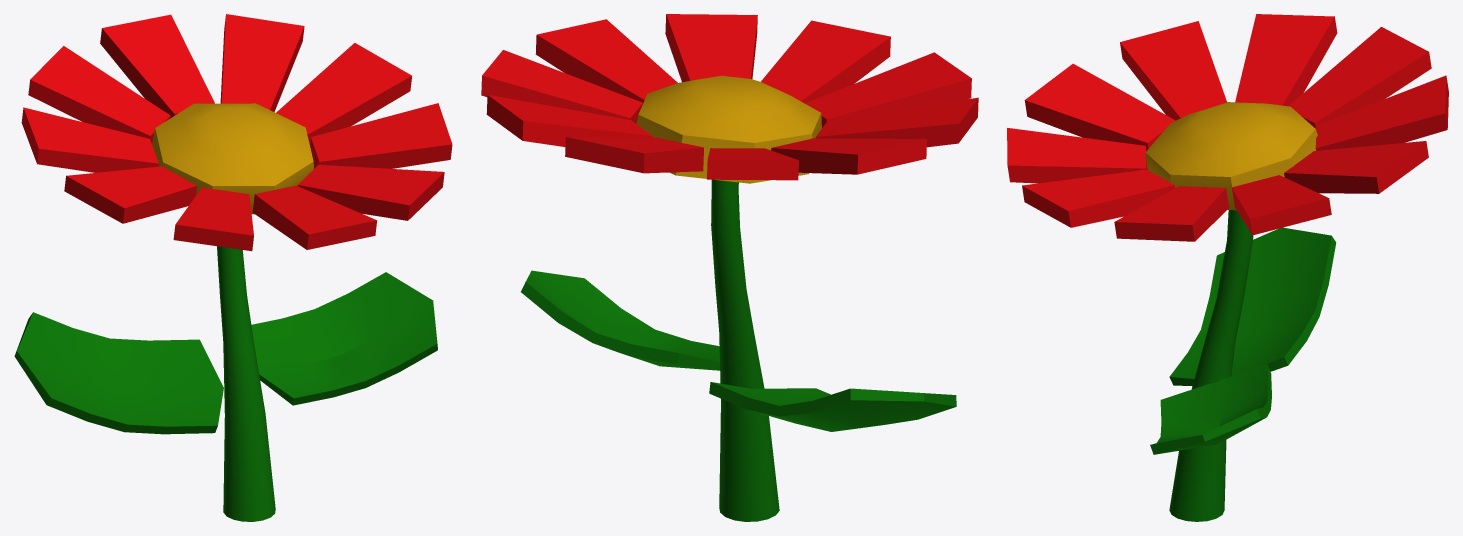
File: Flower_3.fbx
The picture shows the model from 3 angles, left to right: view 1: azimuth 30°, elevation 25°; view 2: azimuth 150°, elevation 25°; view 3: azimuth 270°, elevation 25°; orthographic projection. The views are drawn at different scales.
Visible parts, largest first — view 1: Cylinder; view 2: Cylinder; view 3: Cylinder.
Part boxes in pixels (x1,y1,x2,y2): Cylinder: (14,14,452,521); Cylinder: (481,14,978,521); Cylinder: (1007,14,1448,521).
Size of the model in its own units: 163 by 165 by 157.
